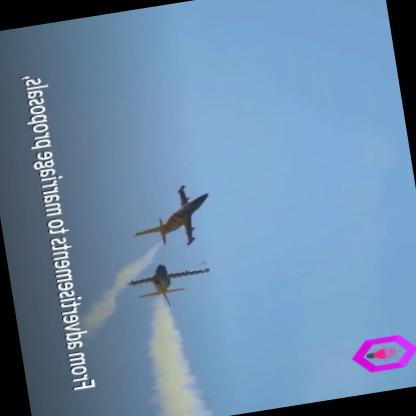plane: (120, 173, 219, 254), (109, 248, 219, 319)
